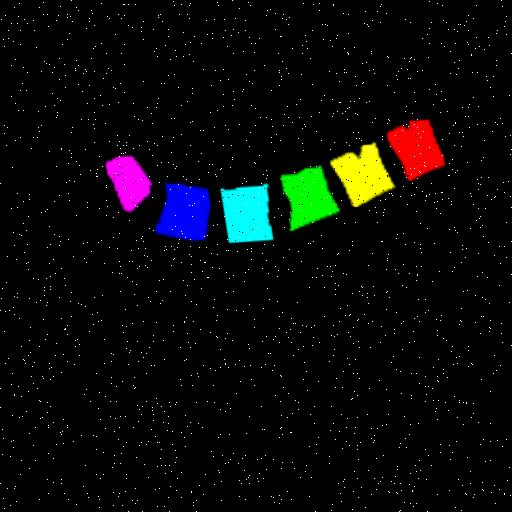L1: (383, 121, 440, 182)
L2: (326, 145, 389, 208)
L3: (276, 168, 333, 231)
L4: (215, 186, 266, 244)
L5: (150, 184, 205, 241)
S1: (101, 156, 149, 212)
